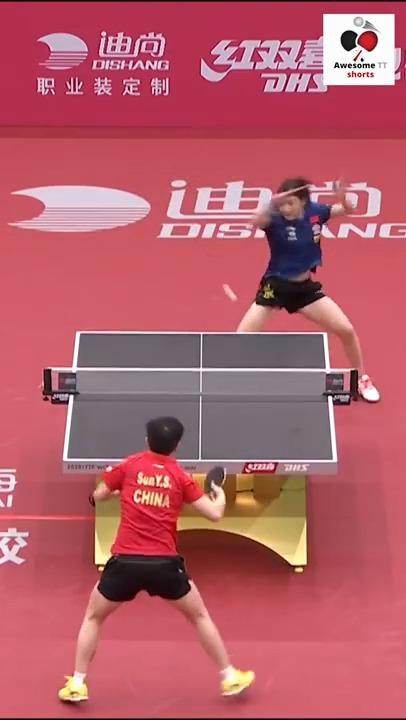Ball: (226, 283, 236, 302)
